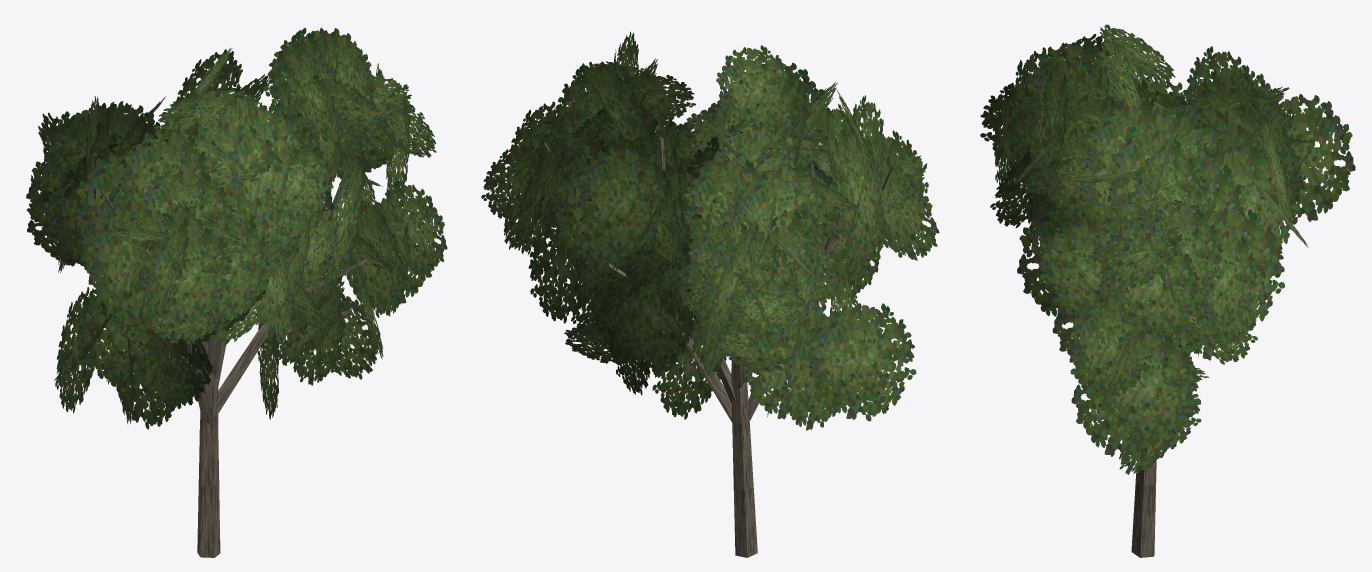
File: CommonTree_2_LOD1.gltf
The picture shows the model from 3 angles, left to right: view 1: azimuth 30°, elevation 25°; view 2: azimuth 150°, elevation 25°; view 3: azimuth 270°, elevation 25°; orthographic projection. The views are drawn at different scales.
Visible parts, largest first — view 1: CommonTree_2_LOD1; view 2: CommonTree_2_LOD1; view 3: CommonTree_2_LOD1.
Boxes of the visible parts, left/top/right/bottom form: CommonTree_2_LOD1: left=26, top=27, right=447, bottom=557; CommonTree_2_LOD1: left=481, top=32, right=939, bottom=557; CommonTree_2_LOD1: left=980, top=24, right=1355, bottom=557.
Bounding box in the file's own units: 14.9 × 17.93 × 11.56.
2 materials, 2 textured.
